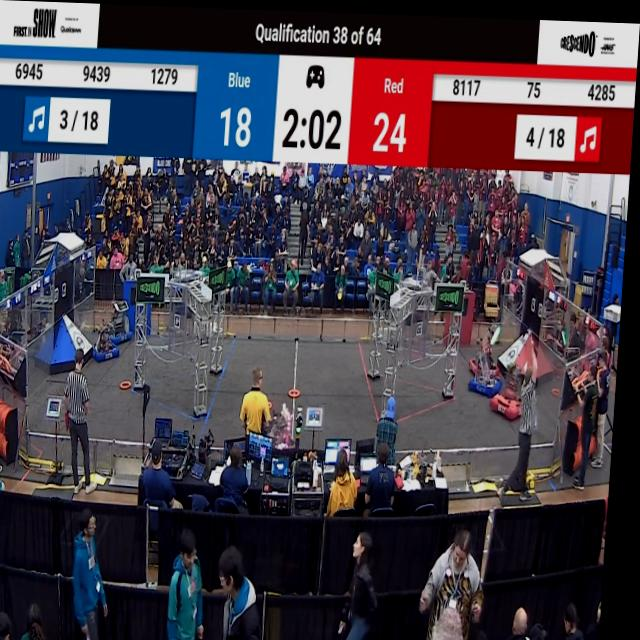Robot: (493, 353, 540, 422), (471, 325, 511, 399), (261, 392, 305, 454), (472, 309, 508, 371), (94, 311, 124, 365), (110, 297, 139, 345)
